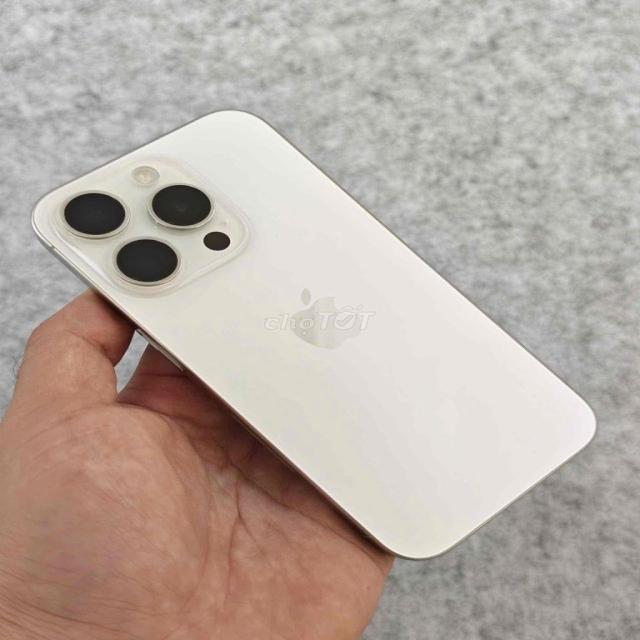gen_15: (20, 103, 611, 581)
